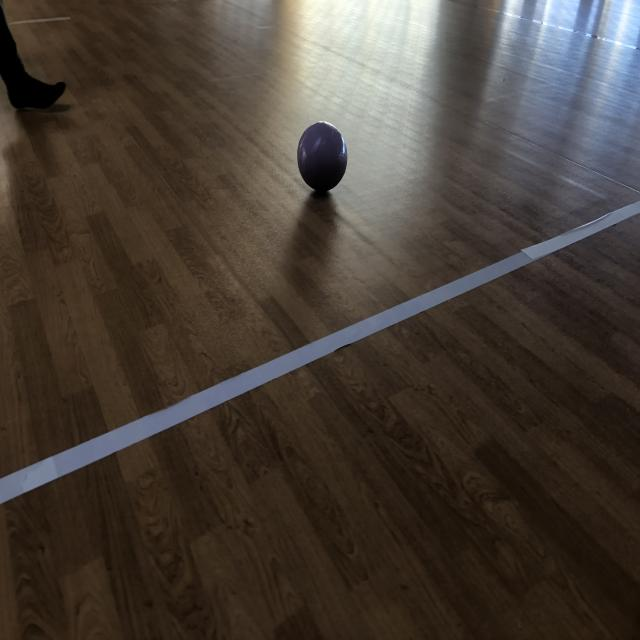purple_ball: (297, 121, 348, 190)
